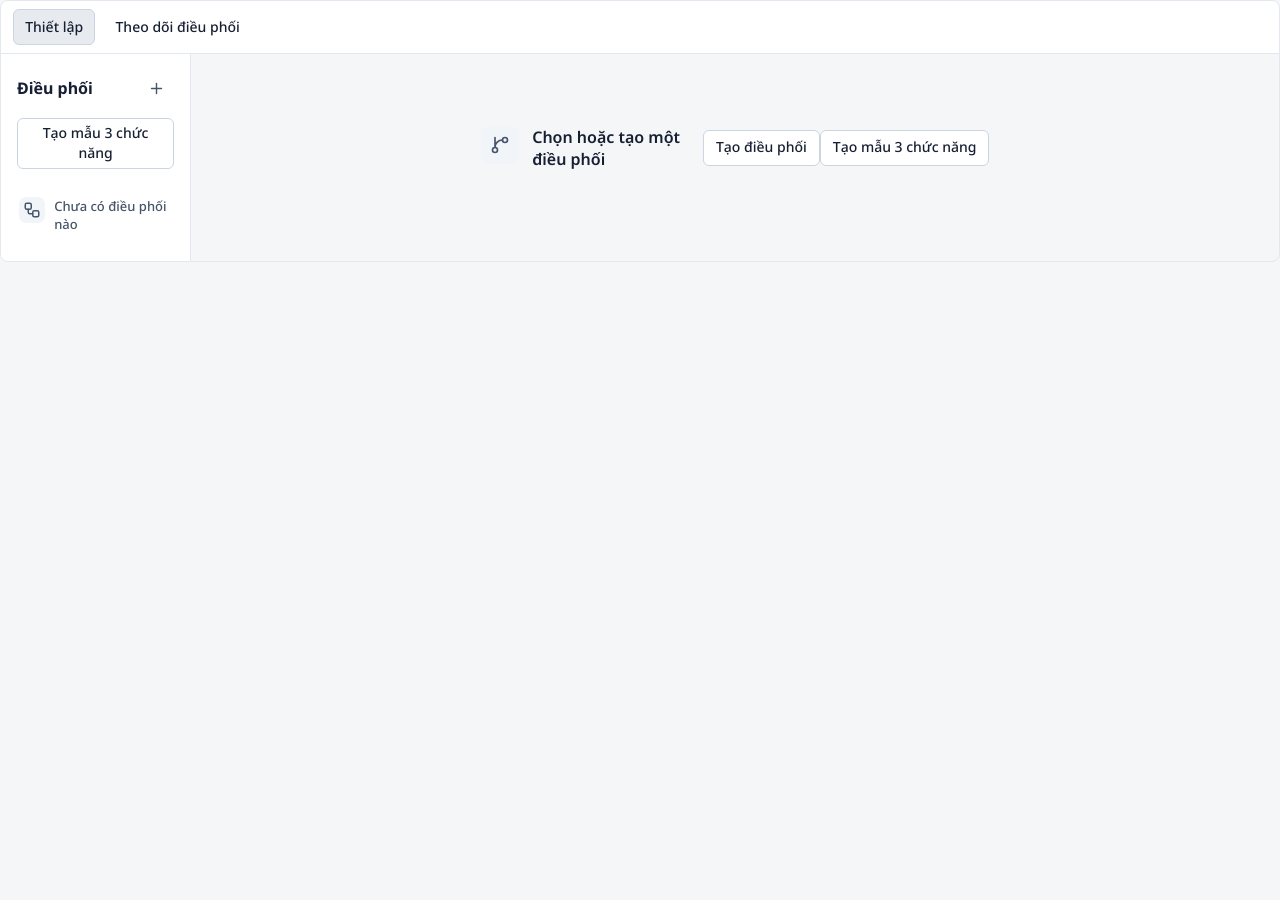
Scenario: OrchestrationWorkspace › keeps save disabled until a campaign profile exists
Click the button "Tạo điều phối".
click(761, 148)  # box [703,130,820,166]
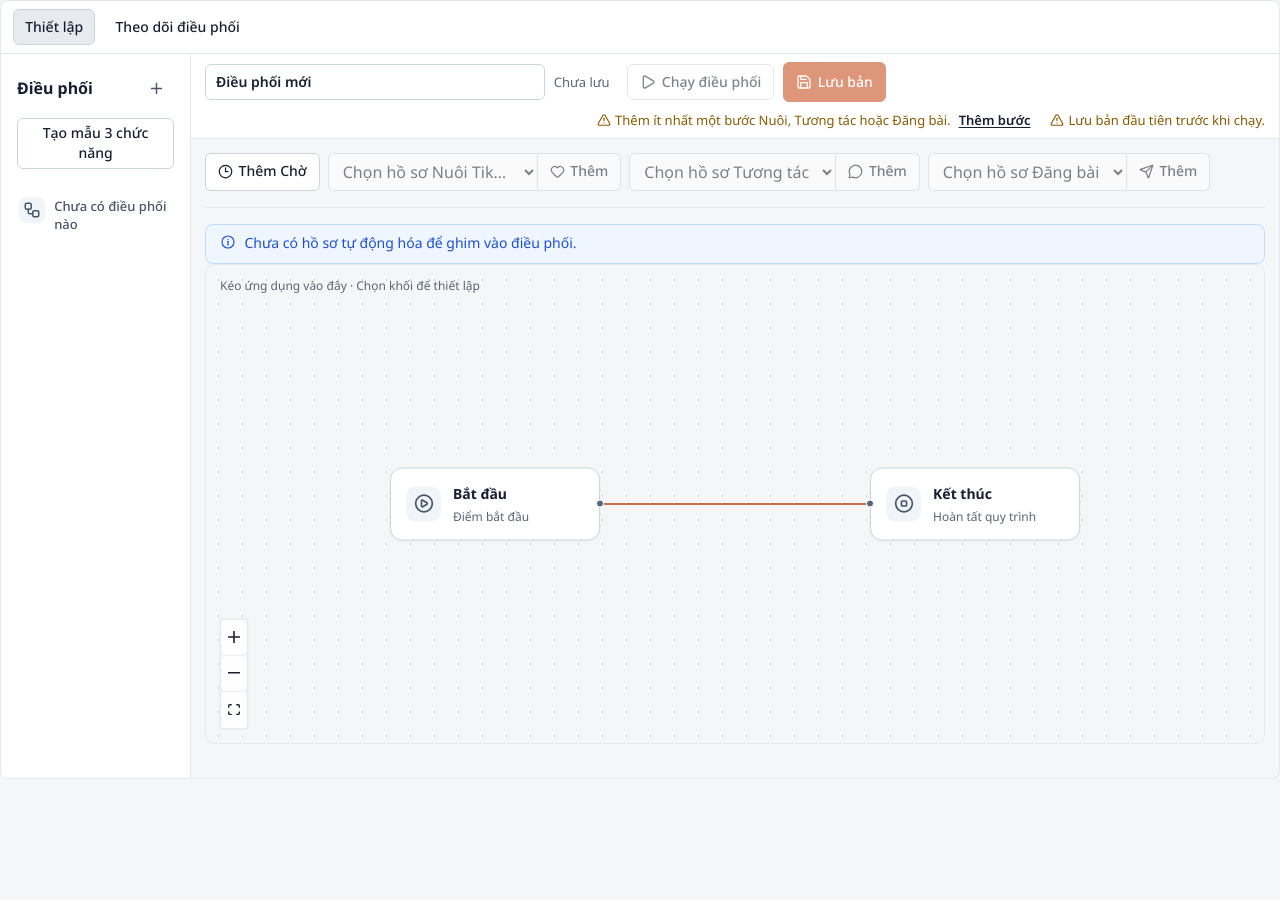
expect the button "Lưu bản" is disabled: met, box [783,62,886,102]
